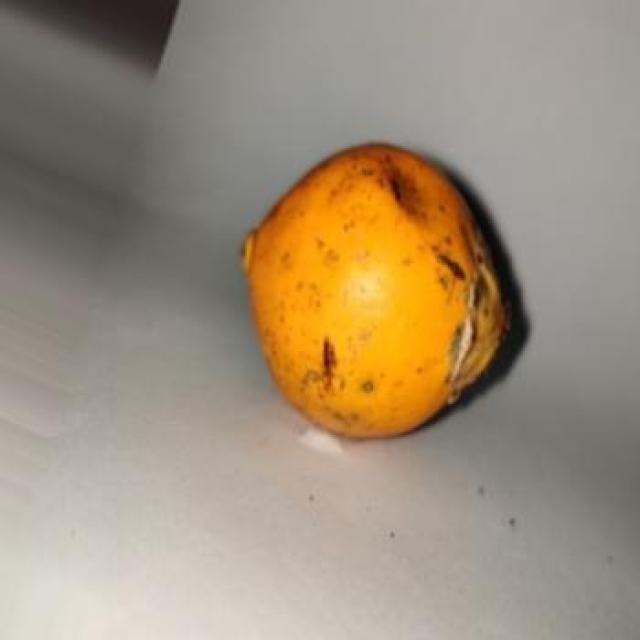good: (240, 143, 516, 441)
